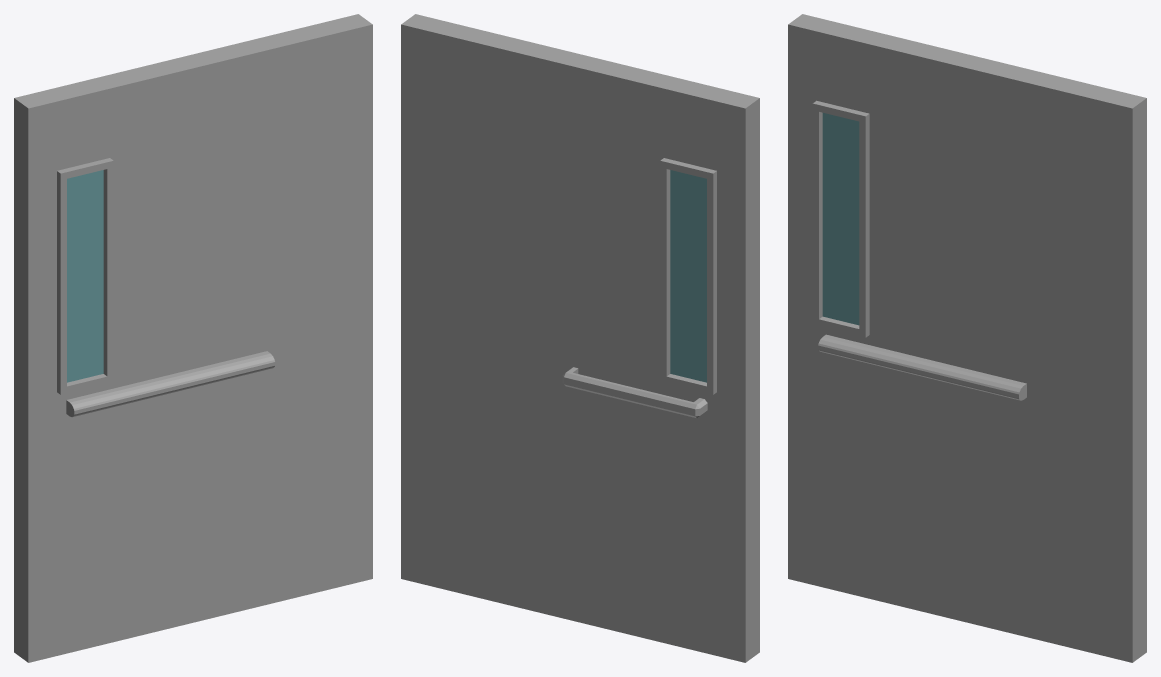
File: doubble-door.fbx
The picture shows the model from 3 angles, left to right: view 1: azimuth 30°, elevation 25°; view 2: azimuth 150°, elevation 25°; view 3: azimuth 330°, elevation 25°; orthographic projection.
Visible parts, largest first — view 1: pCube11; view 2: pCube11; view 3: pCube11.
Part boxes in pixels (x1,y1,x2,y2): pCube11: (14,14,372,662); pCube11: (401,14,759,662); pCube11: (788,14,1146,662).
Size of the model in its own units: 232 by 358 by 37.08.
